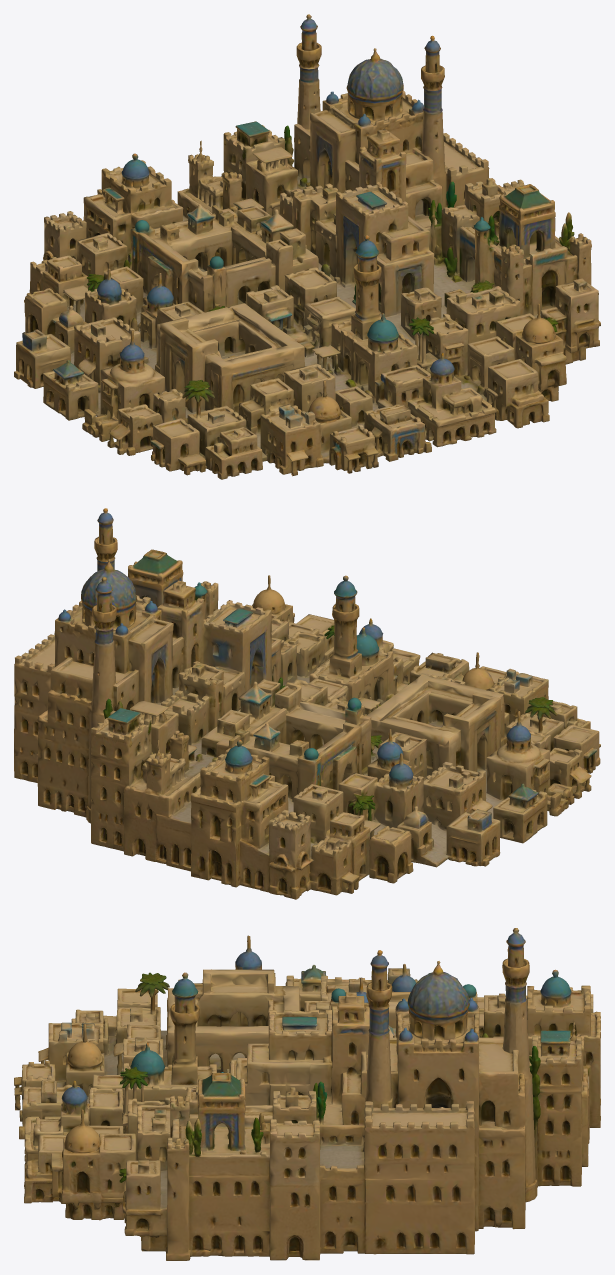
The model's file is Medieval City (Middle Eastern).fbx.
3 renders of one model, top to bottom at view 1: azimuth 30°, elevation 25°; view 2: azimuth 150°, elevation 25°; view 3: azimuth 270°, elevation 25°, orthographic. The views are drawn at different scales.
Parts seen in each view (by area): view 1: tripo_node_29103194; view 2: tripo_node_29103194; view 3: tripo_node_29103194.
Part boxes in pixels (box(x1,y1,x2,y2)): tripo_node_29103194: box(14, 14, 600, 479); tripo_node_29103194: box(14, 508, 600, 899); tripo_node_29103194: box(14, 928, 600, 1260).
Size of the model in its own units: 1 by 0.5181 by 0.9915.
